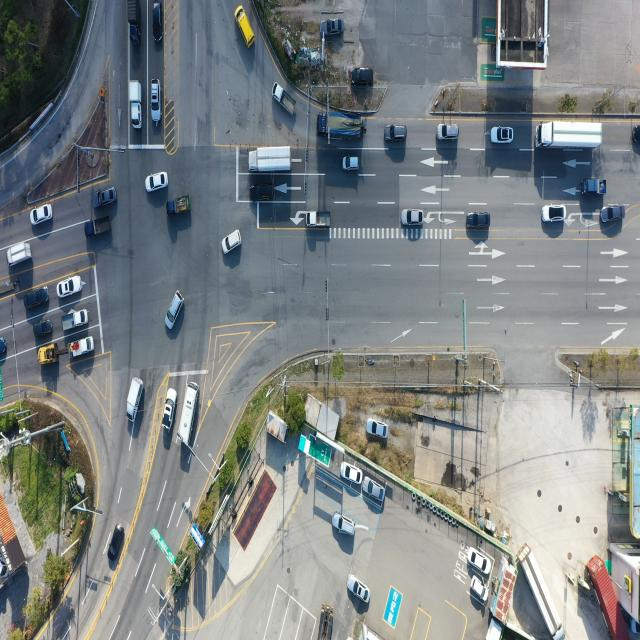car: (235, 4, 254, 46), (348, 574, 371, 604), (165, 292, 183, 329), (24, 285, 50, 309), (164, 388, 178, 432), (111, 526, 127, 562), (58, 275, 83, 298), (364, 478, 386, 504), (223, 230, 243, 256), (470, 549, 490, 575), (145, 172, 168, 194), (334, 512, 356, 535), (92, 189, 115, 211), (470, 576, 488, 604), (30, 204, 52, 226), (320, 18, 344, 38), (342, 462, 363, 484), (541, 205, 565, 224), (600, 205, 624, 224), (350, 67, 374, 86), (152, 0, 162, 43), (466, 212, 490, 229), (402, 209, 426, 226), (150, 79, 159, 124), (366, 419, 387, 438), (491, 128, 514, 145), (253, 184, 276, 201), (33, 319, 53, 338), (385, 125, 407, 142), (439, 125, 460, 142), (344, 157, 361, 172), (631, 124, 640, 147), (0, 338, 7, 359)
medium_truck: (522, 545, 566, 638), (536, 121, 604, 151), (318, 115, 368, 142), (249, 145, 294, 173), (318, 602, 334, 640)
small_bus: (175, 382, 198, 448)
small_truck: (274, 84, 297, 118), (127, 376, 144, 420), (7, 240, 33, 267), (61, 308, 88, 333), (130, 80, 143, 129), (128, 0, 142, 45), (85, 215, 112, 238), (70, 336, 96, 359), (167, 196, 192, 217), (307, 210, 331, 229), (582, 178, 606, 196)
